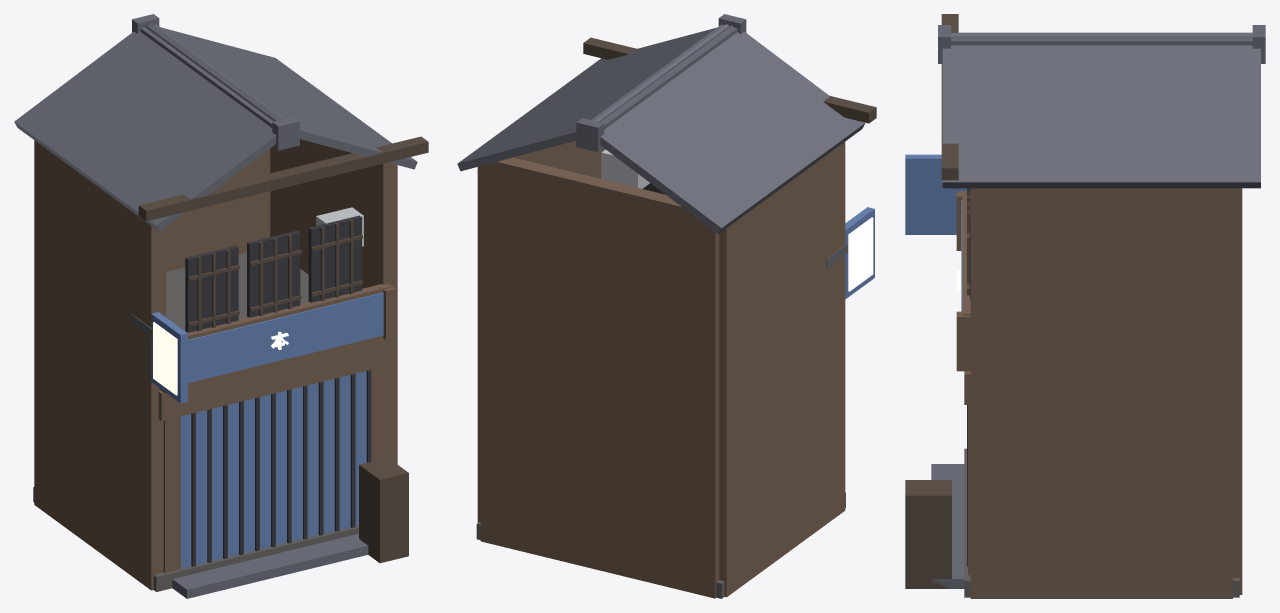
File: prop_shop_honya_closed.glb
3 views of the same model, side by side, from view 1: azimuth 30°, elevation 25°; view 2: azimuth 150°, elevation 25°; view 3: azimuth 270°, elevation 25° (orthographic). The views are drawn at different scales.
Visible parts, largest first — view 1: shop_honya_closed; view 2: shop_honya_closed; view 3: shop_honya_closed.
Boxes of the visible parts, box(x1,y1,x2,y2) form: shop_honya_closed: box(14, 14, 428, 598); shop_honya_closed: box(457, 14, 876, 598); shop_honya_closed: box(905, 14, 1265, 598).
Bounding box in the file's own units: 3.9 × 5.9 × 3.85.
